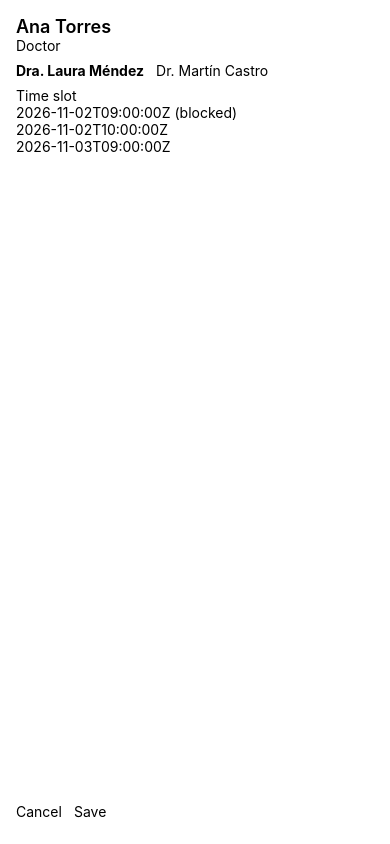
AppointmentModifierScreen › saves a free slot without confirmation
Click the button "2026-11-02T10:00:00Z" at (92, 130), box [16, 121, 374, 138]
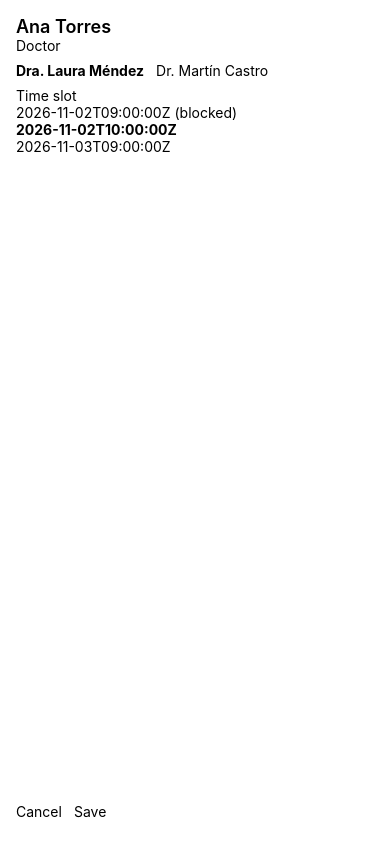
Click the button "Save" at (90, 812), box [74, 803, 106, 820]
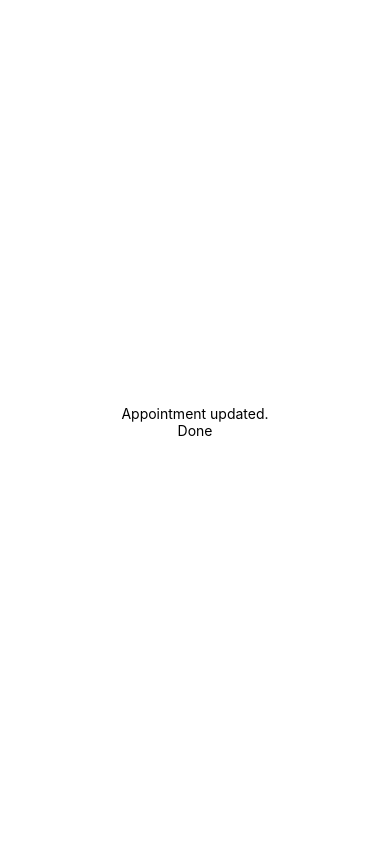
Expected: the text "Appointment updated." is shown, [121, 405, 269, 422]
